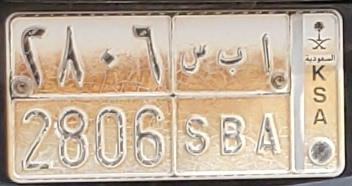0: (94, 48, 128, 168)
2: (23, 24, 52, 173)
6: (131, 24, 165, 167)
8: (57, 25, 88, 171)
A: (255, 30, 281, 158)
B: (216, 46, 245, 156)
S: (178, 42, 212, 157)
